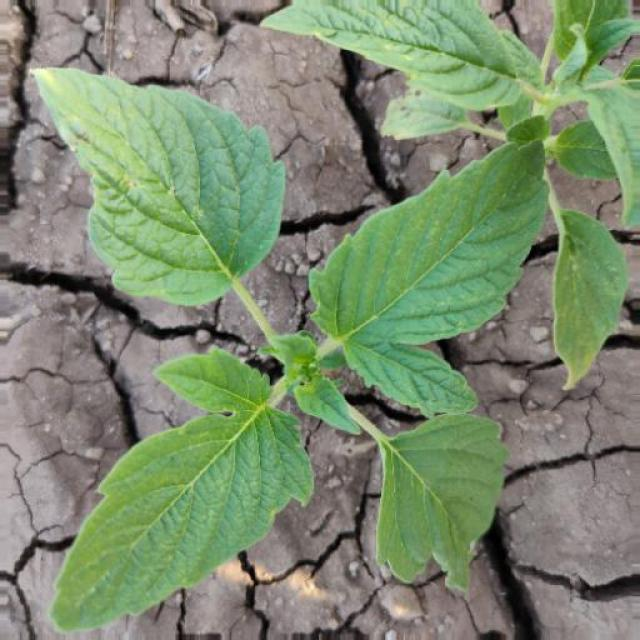crop: (28, 48, 632, 638), (240, 5, 640, 381)
